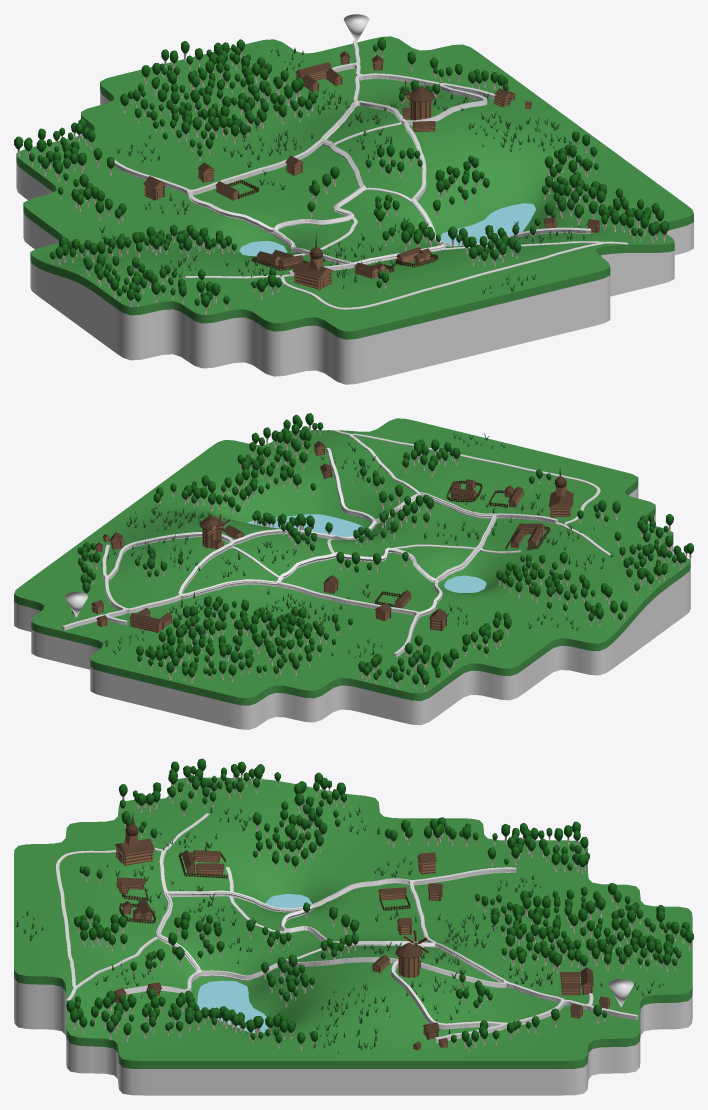
File: Vilage.fbx
The picture shows the model from 3 angles, top to bottom: view 1: azimuth 30°, elevation 25°; view 2: azimuth 150°, elevation 25°; view 3: azimuth 270°, elevation 25°; orthographic projection. The views are drawn at different scales.
Parts seen in each view (by area): view 1: Plane, Marsrut2, Doroga, Marshrut1, Plane.004, Cube.006, Cube.023, Cube.005, Cube.014; view 2: Plane, Marsrut2, Doroga, Marshrut1, Plane.004, Cube.006, Cube.023, Cube.005, Plane.005, Cube.014; view 3: Plane, Marsrut2, Doroga, Marshrut1, Plane.004, Cube.006, Cube.023, Cube.014, Cube.005, Plane.005.
Part boxes in pixels (bbox=[...]): Plane: bbox=[14, 36, 693, 384]; Marsrut2: bbox=[114, 40, 591, 275]; Doroga: bbox=[114, 46, 627, 309]; Marshrut1: bbox=[272, 43, 451, 264]; Plane.004: bbox=[440, 203, 535, 245]; Cube.006: bbox=[402, 80, 435, 131]; Cube.023: bbox=[292, 234, 333, 290]; Cube.005: bbox=[295, 62, 342, 92]; Cube.014: bbox=[256, 249, 303, 269]; Plane: bbox=[14, 413, 693, 729]; Marsrut2: bbox=[62, 448, 557, 656]; Doroga: bbox=[62, 430, 611, 657]; Marshrut1: bbox=[62, 492, 496, 629]; Plane.004: bbox=[247, 514, 364, 536]; Cube.006: bbox=[199, 514, 244, 549]; Cube.023: bbox=[548, 467, 573, 517]; Cube.005: bbox=[129, 607, 172, 632]; Plane.005: bbox=[444, 575, 486, 592]; Cube.014: bbox=[510, 523, 544, 548]; Plane: bbox=[14, 758, 693, 1095]; Marsrut2: bbox=[124, 851, 637, 1041]; Doroga: bbox=[56, 813, 637, 1042]; Marshrut1: bbox=[156, 890, 637, 1019]; Plane.004: bbox=[197, 980, 267, 1033]; Cube.006: bbox=[372, 930, 428, 977]; Cube.023: bbox=[115, 812, 154, 865]; Cube.014: bbox=[182, 850, 224, 874]; Cube.005: bbox=[560, 967, 593, 995]; Plane.005: bbox=[265, 893, 311, 908].
Size of the model in its own units: 1783 by 317 by 1926.
